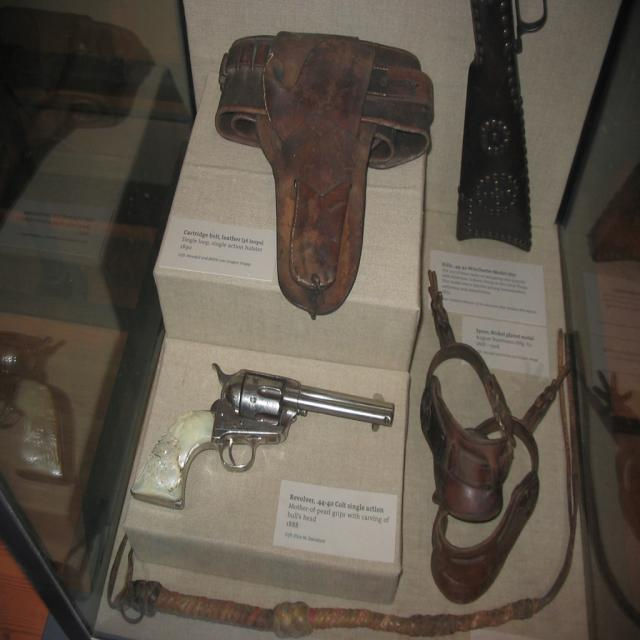Gun: (180, 364, 394, 472), (0, 331, 75, 486)
